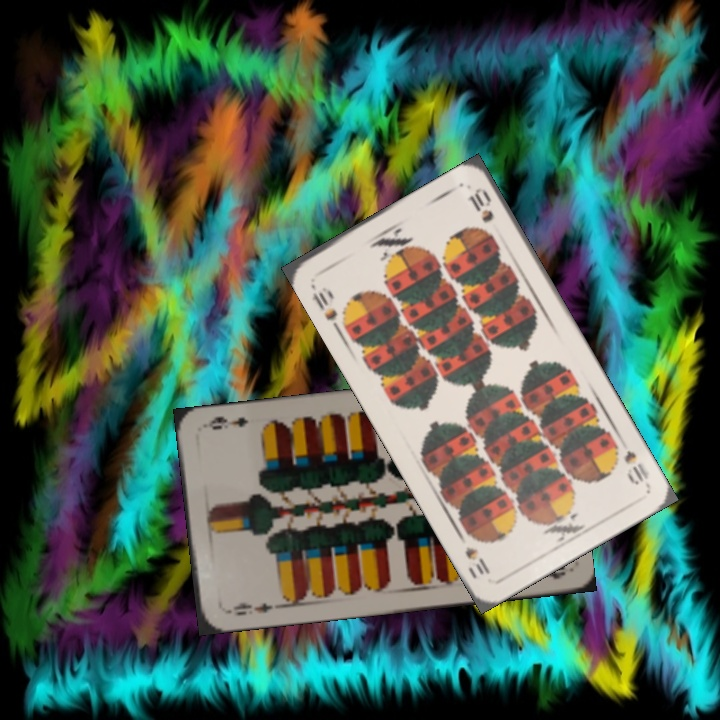E9: (221, 598, 275, 618)
S10: (306, 279, 340, 324), (620, 445, 652, 488)
